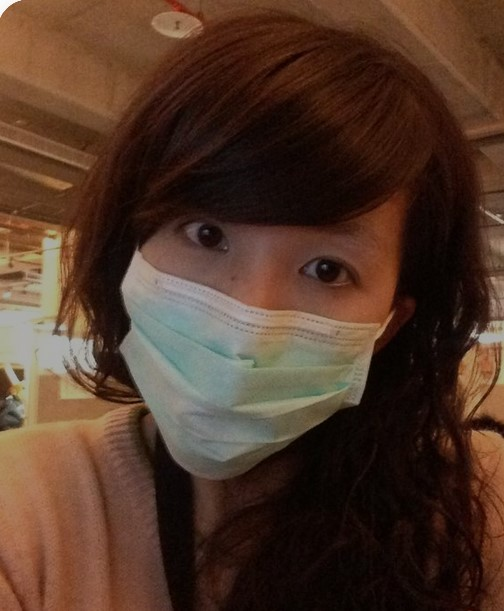face_with_mask: (110, 36, 482, 487)
